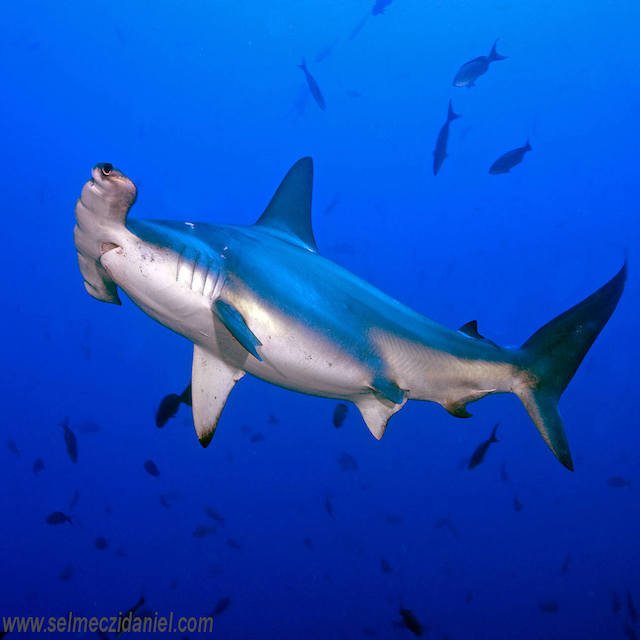hammerhead: (49, 143, 226, 354)
